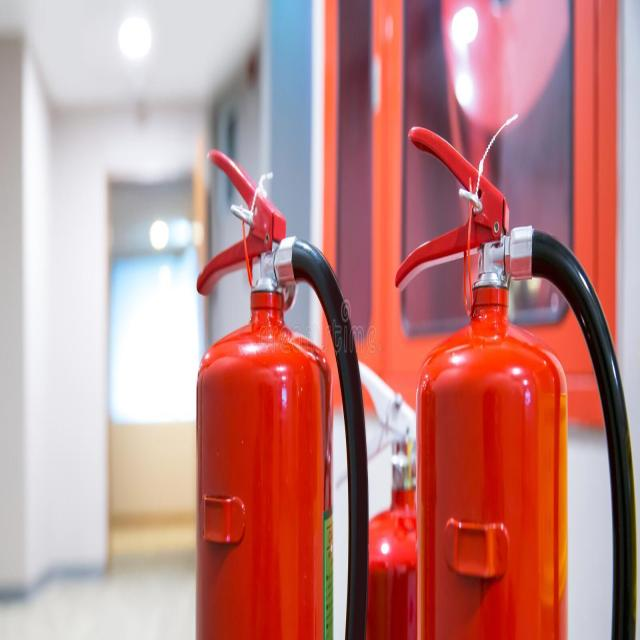fire_extinguisher: (386, 113, 640, 639), (190, 146, 372, 639), (323, 342, 465, 639)
